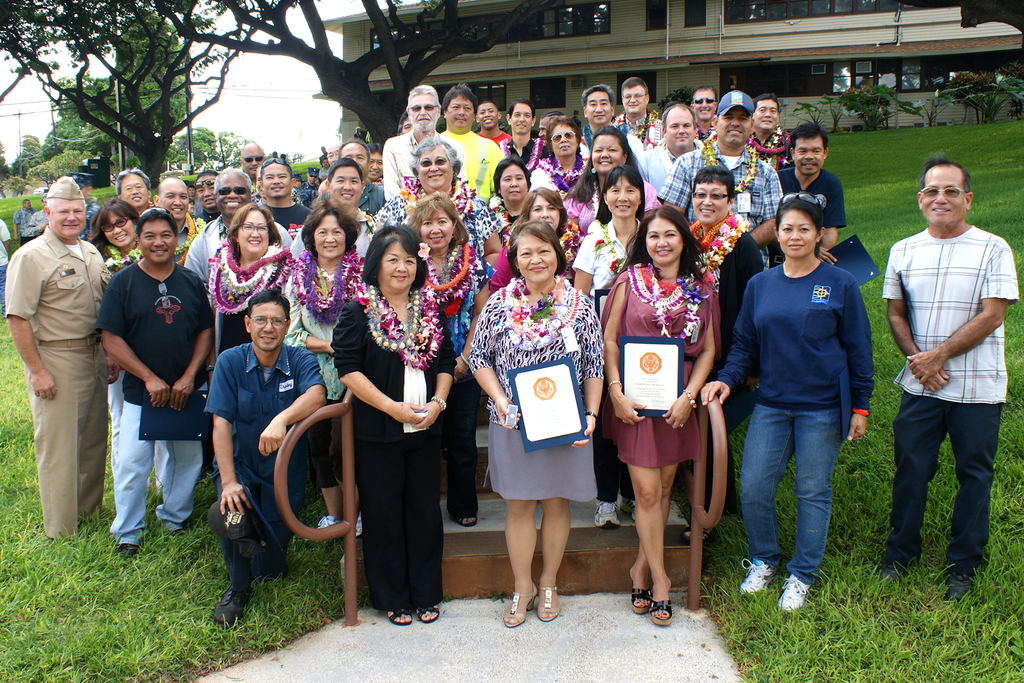Human-face: (922, 166, 966, 227), (515, 233, 556, 286), (380, 240, 417, 291), (643, 216, 681, 265), (776, 210, 815, 257), (248, 302, 286, 350), (139, 220, 177, 265), (47, 200, 85, 239), (694, 179, 726, 225), (314, 215, 346, 260), (235, 210, 269, 252), (420, 146, 453, 188), (420, 207, 453, 249), (328, 165, 361, 206), (218, 173, 248, 218), (608, 177, 641, 217), (718, 108, 751, 147), (592, 135, 623, 173), (666, 107, 694, 149), (408, 90, 437, 130), (116, 174, 150, 208), (160, 179, 189, 218), (794, 138, 822, 176), (529, 194, 561, 227), (105, 213, 135, 247), (340, 143, 369, 177), (240, 142, 265, 179), (264, 163, 290, 198), (445, 95, 471, 130), (550, 126, 575, 158), (755, 99, 778, 131), (587, 90, 609, 123), (693, 87, 713, 122), (622, 86, 644, 116), (198, 174, 215, 211), (512, 102, 532, 132), (367, 153, 383, 179), (478, 103, 496, 126), (537, 116, 548, 141)
